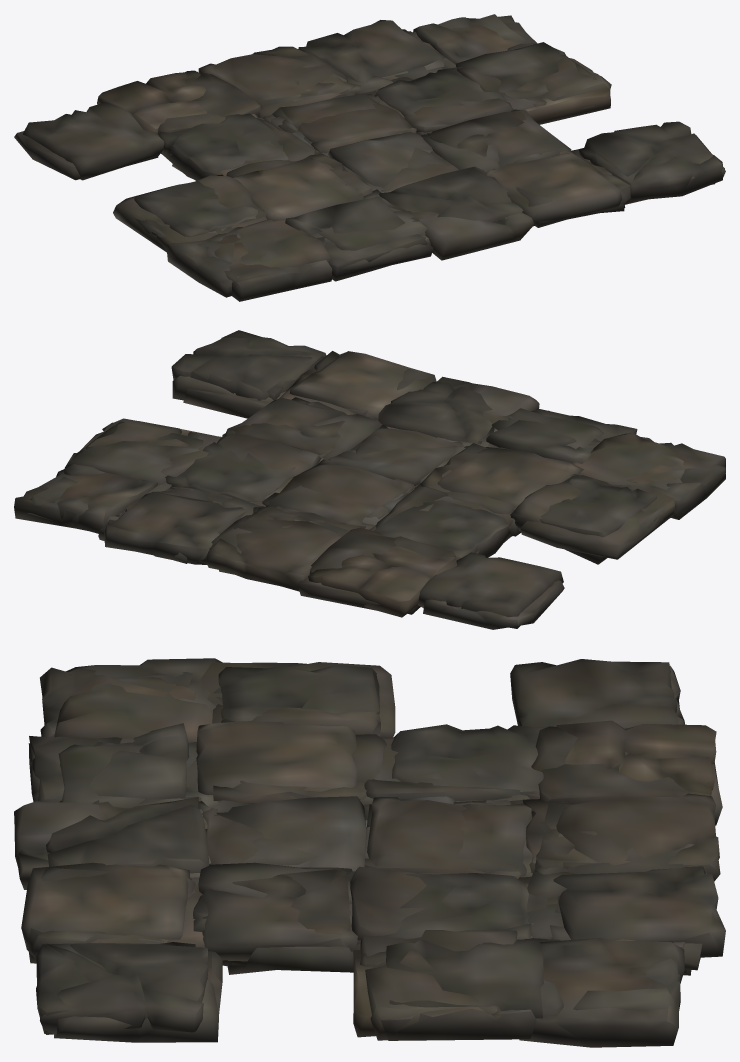
Rendered from Floor_Tile_Grp.fbx.
3 renders of one model, top to bottom at view 1: azimuth 30°, elevation 25°; view 2: azimuth 150°, elevation 25°; view 3: azimuth 270°, elevation 25°, orthographic. The views are drawn at different scales.
Visible parts, largest first — view 1: Floor_Tile_Grp_05, Floor_Tile_Grp_01, Floor_Tile_Grp_04, Floor_Tile_Grp_06, Floor_Tile_Grp_03, Floor_Tile_Grp_02; view 2: Floor_Tile_Grp_04, Floor_Tile_Grp_05, Floor_Tile_Grp_01, Floor_Tile_Grp_06, Floor_Tile_Grp_03, Floor_Tile_Grp_02; view 3: Floor_Tile_Grp_01, Floor_Tile_Grp_05, Floor_Tile_Grp_04, Floor_Tile_Grp_06, Floor_Tile_Grp_03, Floor_Tile_Grp_02.
Boxes of the visible parts, x1,y1,x2,y2 form: Floor_Tile_Grp_05: (23, 14, 621, 269); Floor_Tile_Grp_01: (134, 31, 722, 277); Floor_Tile_Grp_04: (97, 20, 647, 297); Floor_Tile_Grp_06: (157, 48, 725, 301); Floor_Tile_Grp_03: (14, 15, 630, 281); Floor_Tile_Grp_02: (196, 29, 724, 267); Floor_Tile_Grp_04: (64, 389, 725, 617); Floor_Tile_Grp_05: (27, 351, 665, 628); Floor_Tile_Grp_01: (80, 330, 711, 574); Floor_Tile_Grp_06: (64, 337, 725, 567); Floor_Tile_Grp_03: (14, 351, 674, 629); Floor_Tile_Grp_02: (67, 368, 684, 610); Floor_Tile_Grp_01: (29, 665, 695, 1040); Floor_Tile_Grp_05: (14, 659, 679, 1010); Floor_Tile_Grp_04: (60, 658, 725, 1016); Floor_Tile_Grp_06: (40, 667, 698, 1040); Floor_Tile_Grp_03: (26, 662, 684, 1047); Floor_Tile_Grp_02: (54, 677, 722, 1042).
Size of what is drawn, in the model's own units: 279 by 20.33 by 232.
